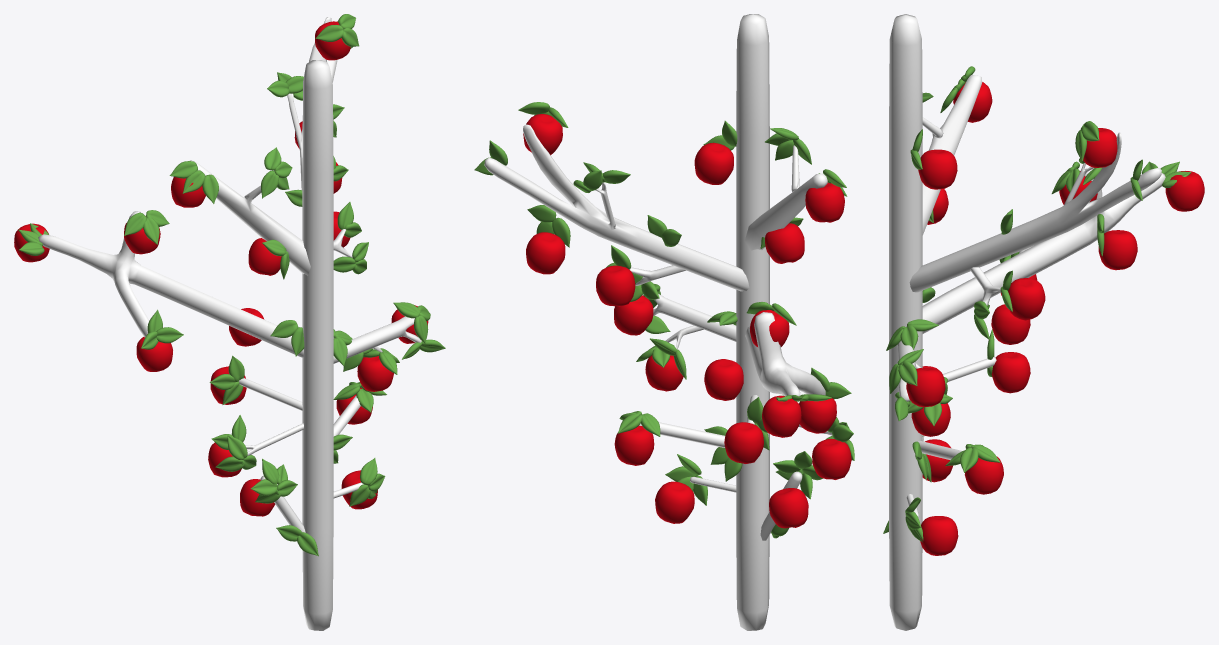
The model's file is tree.glb.
The picture shows the model from 3 angles, left to right: view 1: azimuth 30°, elevation 25°; view 2: azimuth 150°, elevation 25°; view 3: azimuth 270°, elevation 25°; orthographic projection. The views are drawn at different scales.
Visible parts, largest first — view 1: tree, leaf.013, apple.012, leaf.016, apple.002, leaf.002, leaf.008, apple.014, leaf.010, leaf.020, leaf.004, apple.006 (+9 smaller); view 2: tree, apple.004, apple.008, apple.017, apple.013, apple.003, apple.009, apple.015, apple.006, apple.010, apple.007, apple.014 (+13 smaller); view 3: tree, apple.013, apple.009, apple.003, apple.008, apple.004, apple.010, apple.011, apple.017, apple.005, apple.016, leaf.005 (+9 smaller).
Boxes of the visible parts, x1,y1,x2,y2 form: tree: (38, 17, 421, 630); leaf.013: (169, 161, 218, 203); apple.012: (357, 356, 393, 391); leaf.016: (261, 147, 292, 198); apple.002: (136, 337, 172, 371); leaf.002: (124, 210, 169, 244); leaf.008: (349, 458, 385, 506); apple.014: (248, 238, 281, 275); leaf.010: (209, 355, 244, 404); leaf.020: (215, 435, 256, 471); leaf.004: (315, 14, 359, 46); apple.006: (240, 479, 275, 516); tree: (484, 14, 832, 630); apple.004: (526, 232, 565, 274); apple.008: (655, 481, 694, 523); apple.017: (704, 359, 743, 400); apple.013: (724, 422, 763, 463); apple.003: (596, 265, 635, 306); apple.009: (694, 142, 733, 184); apple.015: (812, 439, 851, 479); apple.006: (769, 488, 808, 528); apple.010: (762, 395, 801, 437); apple.007: (805, 182, 844, 222); apple.014: (765, 223, 804, 263); tree: (889, 14, 1165, 630); apple.013: (991, 352, 1030, 393); apple.009: (918, 149, 957, 189); apple.003: (1008, 278, 1045, 320); apple.008: (920, 516, 958, 555); apple.004: (1098, 230, 1137, 270); apple.010: (1165, 171, 1204, 211); apple.011: (906, 368, 945, 407); apple.017: (991, 304, 1030, 344); apple.005: (964, 456, 1003, 494); apple.016: (1083, 128, 1117, 167); leaf.005: (889, 349, 923, 393).
Bounding box in the file's own units: 18.8 × 30.58 × 14.51.
